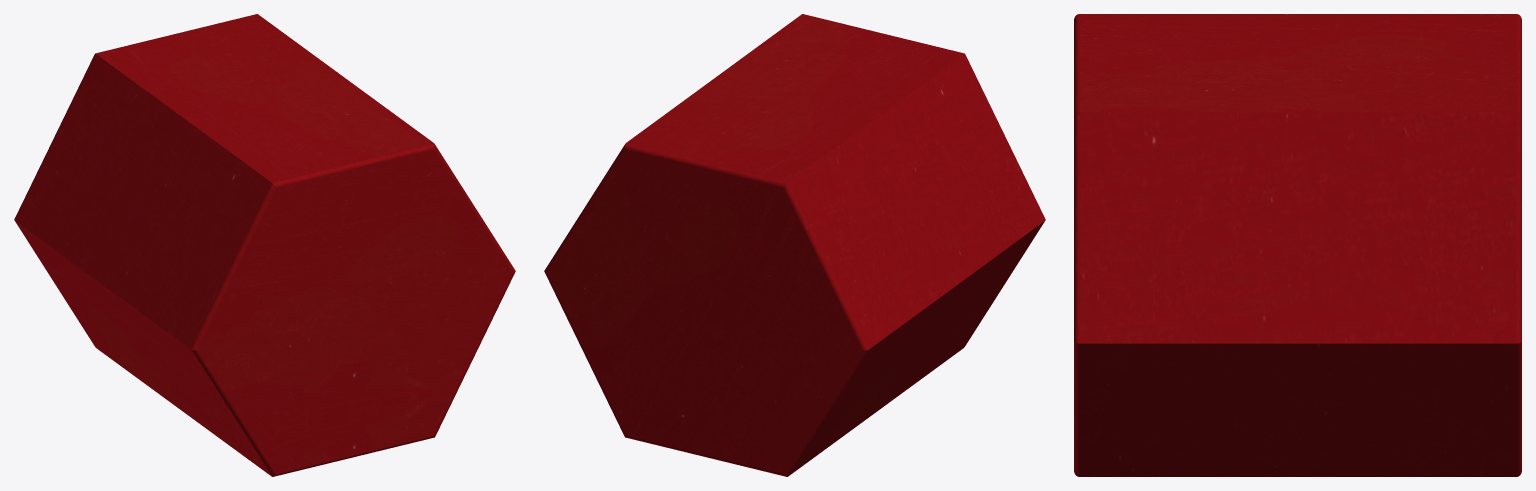
Rendered from hexagon.glb.
The picture shows the model from 3 angles, left to right: view 1: azimuth 30°, elevation 25°; view 2: azimuth 150°, elevation 25°; view 3: azimuth 270°, elevation 25°; orthographic projection. The views are drawn at different scales.
Parts seen in each view (by area): view 1: hexagon_2; view 2: hexagon_2; view 3: hexagon_2.
Part boxes in pixels (x1,y1,x2,y2): hexagon_2: [14, 14, 515, 476]; hexagon_2: [544, 14, 1045, 476]; hexagon_2: [1074, 14, 1521, 476].
Bounding box in the file's own units: 0.0415 × 0.0359 × 0.04.
Materials: 1 (1 with a texture image).
